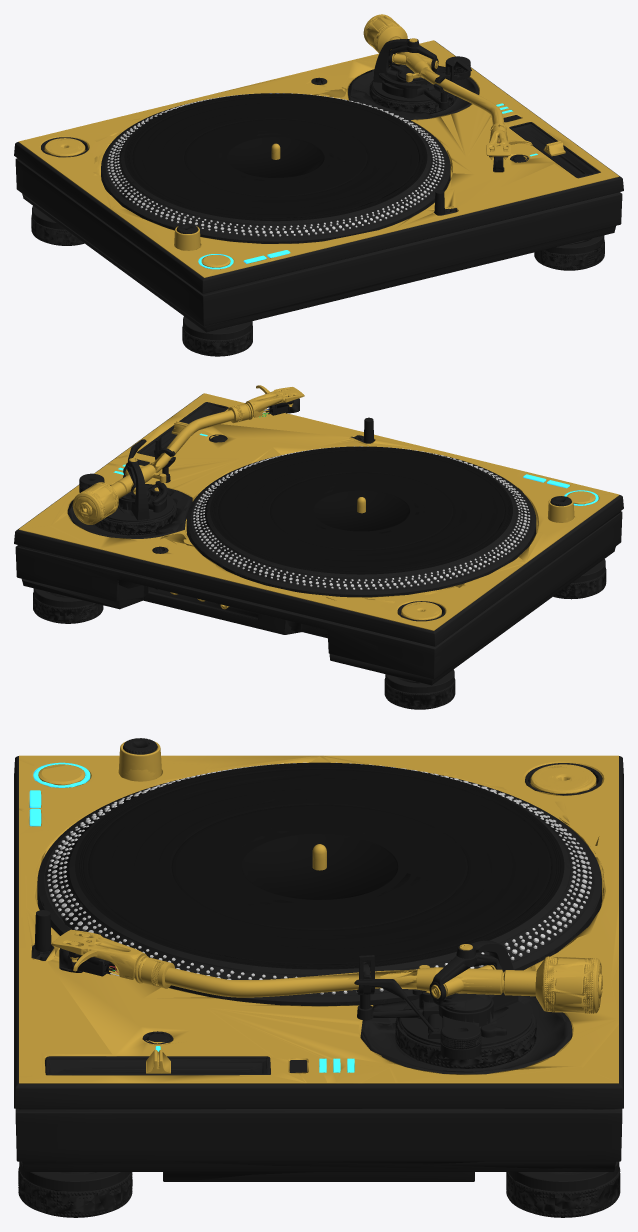
File: turntable-low.glb
3 views of the same model, one above another, from view 1: azimuth 30°, elevation 25°; view 2: azimuth 150°, elevation 25°; view 3: azimuth 270°, elevation 25° (orthographic). The views are drawn at different scales.
Visible parts, largest first — view 1: BodyMesh, PlatterMesh, BodyMesh_Nearby, PlatterMesh_Nearby, BodyMesh_Distant, TonearmMesh, PlatterMesh_Distant, TonearmMesh_Nearby, TonearmMesh_Distant; view 2: BodyMesh, PlatterMesh, BodyMesh_Nearby, PlatterMesh_Nearby, BodyMesh_Distant, TonearmMesh, PlatterMesh_Distant, TonearmMesh_Distant, TonearmMesh_Nearby; view 3: BodyMesh, PlatterMesh, BodyMesh_Nearby, PlatterMesh_Nearby, BodyMesh_Distant, TonearmMesh, PlatterMesh_Distant, TonearmMesh_Distant, TonearmMesh_Nearby.
Boxes of the visible parts, box(x1,y1,x2,y2) form: BodyMesh: box(14, 40, 623, 356); PlatterMesh: box(101, 93, 450, 243); BodyMesh_Nearby: box(16, 40, 622, 356); PlatterMesh_Nearby: box(101, 93, 450, 243); BodyMesh_Distant: box(16, 59, 619, 355); TonearmMesh: box(364, 14, 532, 171); PlatterMesh_Distant: box(106, 103, 446, 237); TonearmMesh_Nearby: box(363, 14, 530, 172); TonearmMesh_Distant: box(364, 15, 531, 172); BodyMesh: box(14, 393, 623, 709); PlatterMesh: box(186, 446, 536, 597); BodyMesh_Nearby: box(16, 395, 620, 709); PlatterMesh_Nearby: box(187, 446, 535, 596); BodyMesh_Distant: box(17, 401, 621, 709); TonearmMesh: box(72, 385, 304, 524); PlatterMesh_Distant: box(193, 454, 531, 590); TonearmMesh_Distant: box(74, 386, 299, 523); TonearmMesh_Nearby: box(72, 386, 299, 524); BodyMesh: box(14, 738, 623, 1217); PlatterMesh: box(37, 762, 601, 1006); BodyMesh_Nearby: box(14, 738, 623, 1217); PlatterMesh_Nearby: box(37, 762, 601, 1005); BodyMesh_Distant: box(18, 738, 620, 1216); TonearmMesh: box(52, 929, 602, 1013); PlatterMesh_Distant: box(39, 777, 601, 1000); TonearmMesh_Distant: box(59, 932, 602, 1013); TonearmMesh_Nearby: box(60, 932, 602, 1013).
Bounding box in the file's own units: 0.455 × 0.1419 × 0.3529.
